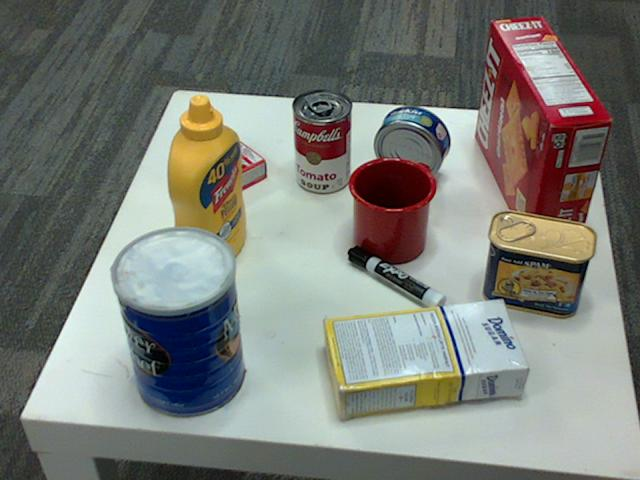cracker_box: (474, 14, 612, 245)
gelatin_box: (170, 129, 266, 203)
large_marker: (348, 247, 446, 316)
master_chef_can: (107, 228, 243, 420)
mug: (346, 155, 435, 262)
mustard_bottle: (165, 95, 246, 276)
potted_meat_can: (481, 210, 595, 317)
sugar_box: (319, 297, 526, 417)
tomato_soup_can: (291, 89, 351, 194)
tuna_fish_can: (372, 105, 449, 180)
